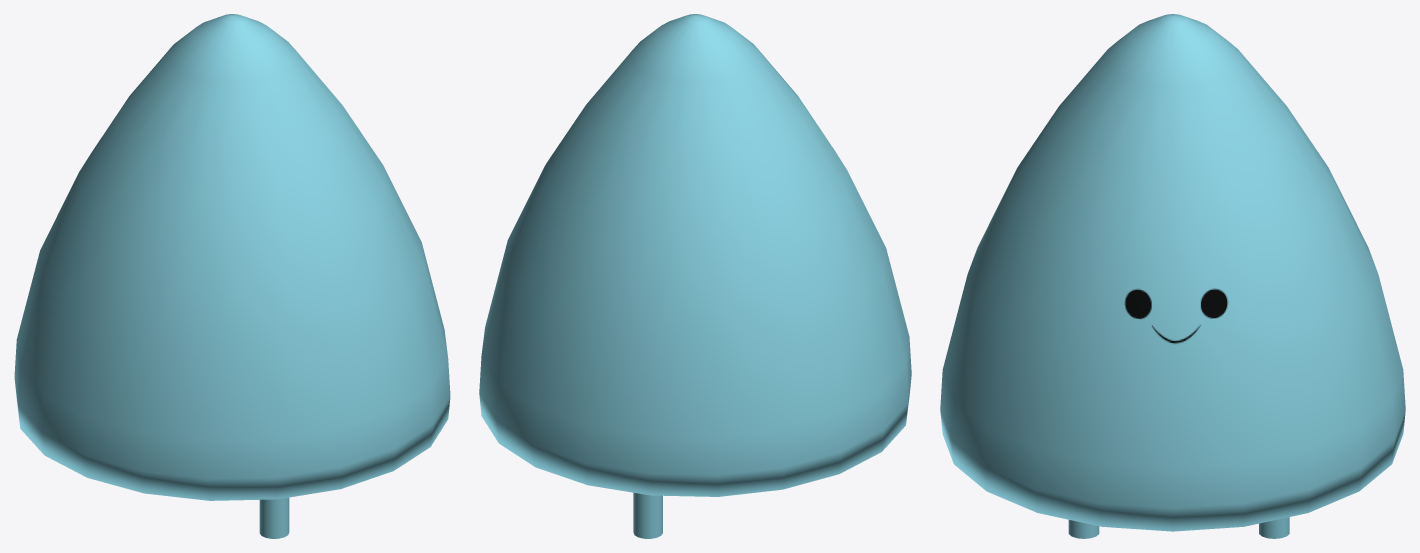
File: EnemyStalactite.fbx
The picture shows the model from 3 angles, left to right: view 1: azimuth 30°, elevation 25°; view 2: azimuth 150°, elevation 25°; view 3: azimuth 270°, elevation 25°; orthographic projection. The views are drawn at different scales.
Parts seen in each view (by area): view 1: polySurface1, polySurface2; view 2: polySurface1, polySurface3; view 3: polySurface1, polySurface3.
Part boxes in pixels (x1,y1,x2,y2): polySurface1: [14, 14, 450, 500]; polySurface2: [259, 497, 289, 538]; polySurface1: [479, 14, 911, 496]; polySurface3: [633, 492, 662, 538]; polySurface1: [940, 14, 1405, 531]; polySurface3: [1259, 517, 1289, 538].
Bounding box in the file's own units: 3.5 × 4.28 × 3.5.
Materials: 1 (1 with a texture image).
